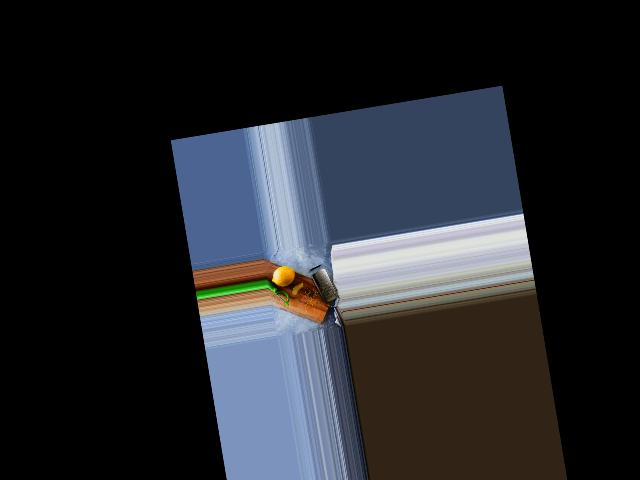lemon: (269, 264, 296, 288)
